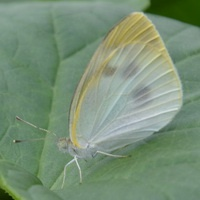insect: (57, 12, 182, 159)
